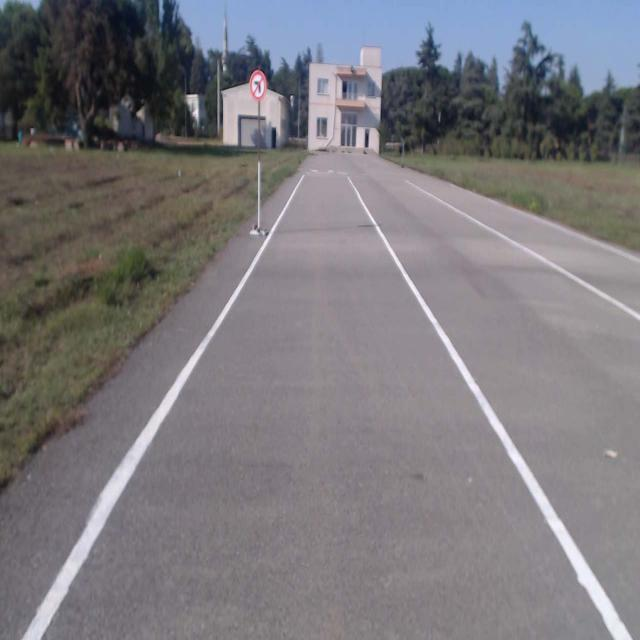soladonulmez: (250, 70, 266, 100)
